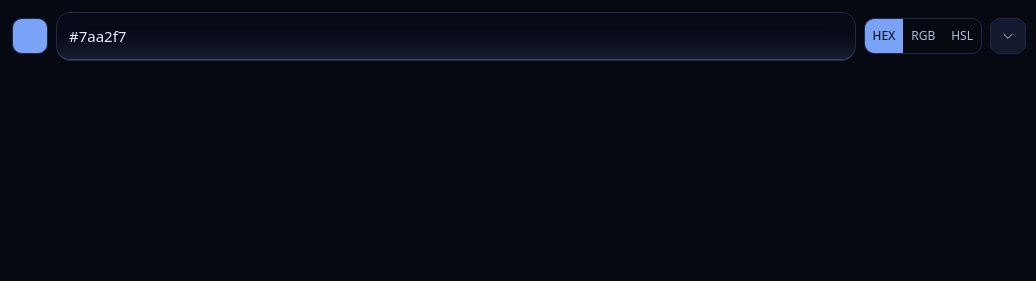
Test case: ColorPicker › is collapsed by default and expands on request
Click the button named "more colours" at (1008, 36), box [990,18,1026,54]
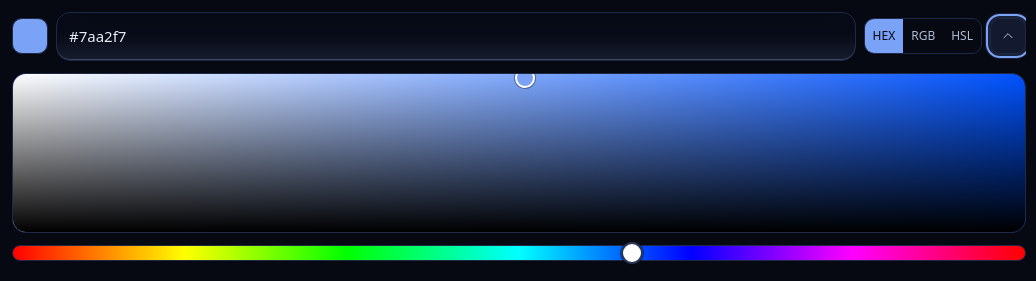
Result: the slider named "saturation" is shown at [515,72,535,88]
